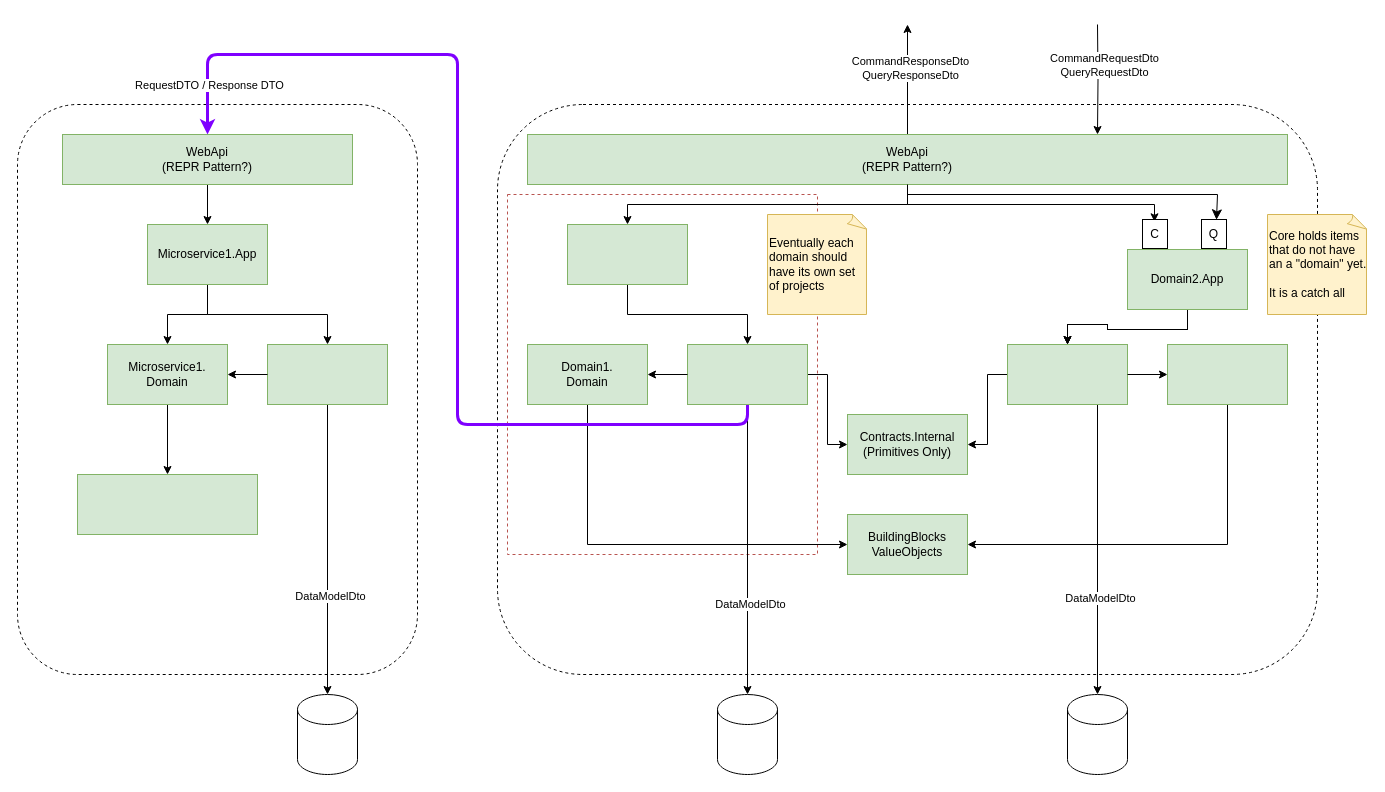
This 1385x792 diagram has some shape labels left out. The centre of each missing label's shape, as x and y in pixels:
Domain1. Infrastructure: pixel 747 374
Domain1.App: pixel 627 254
Domain2.Domain: pixel 1227 374
Domain2.Infrastructure: pixel 1067 374
Microservice.BuildingBlocks: pixel 167 504
Microservice1. Infrastructure: pixel 327 374
